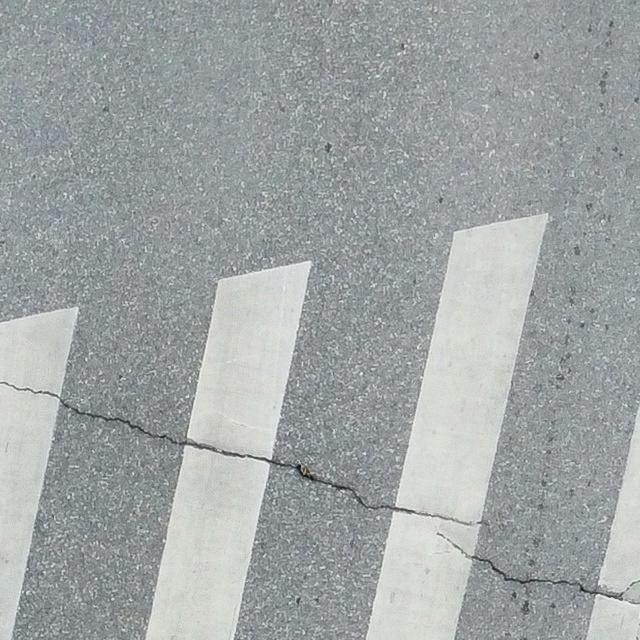TransverseCrack: (1, 381, 494, 526), (434, 532, 640, 605)
